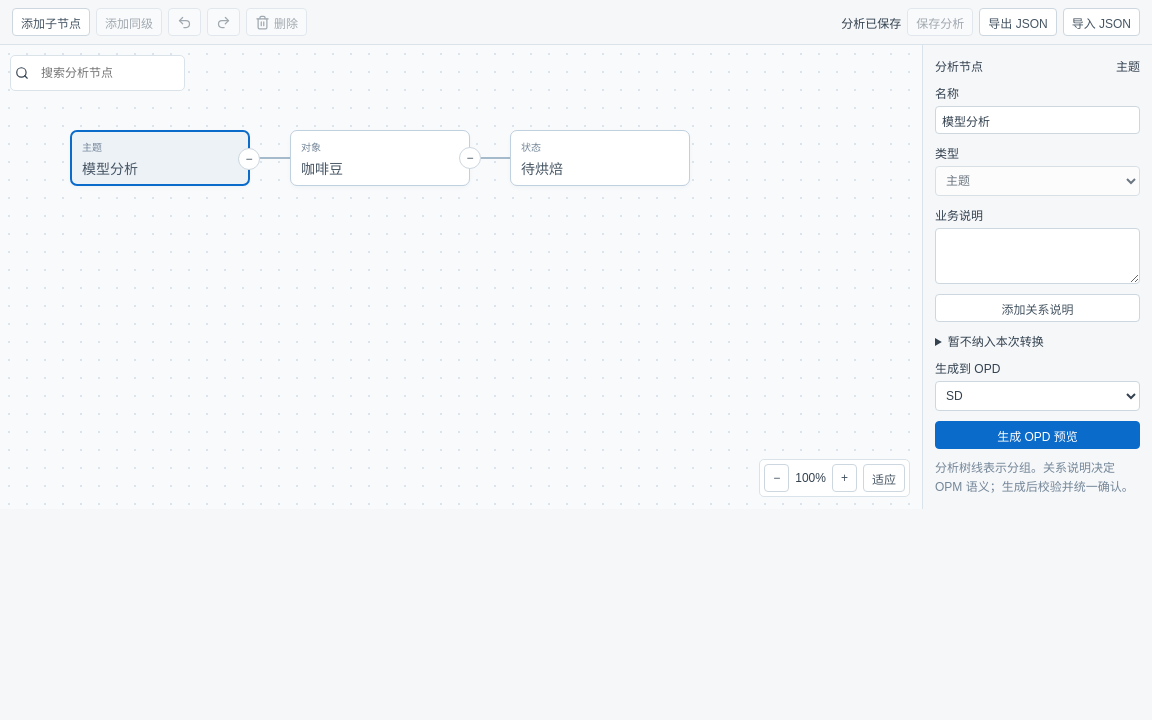
Test case: 拒绝错配响应并保留本地编辑，不把错误修订显示为保存成功
Replace the text in the field with test id "mindmap-node-label" with "本地分析" at [1038, 120], box [935, 106, 1140, 134]
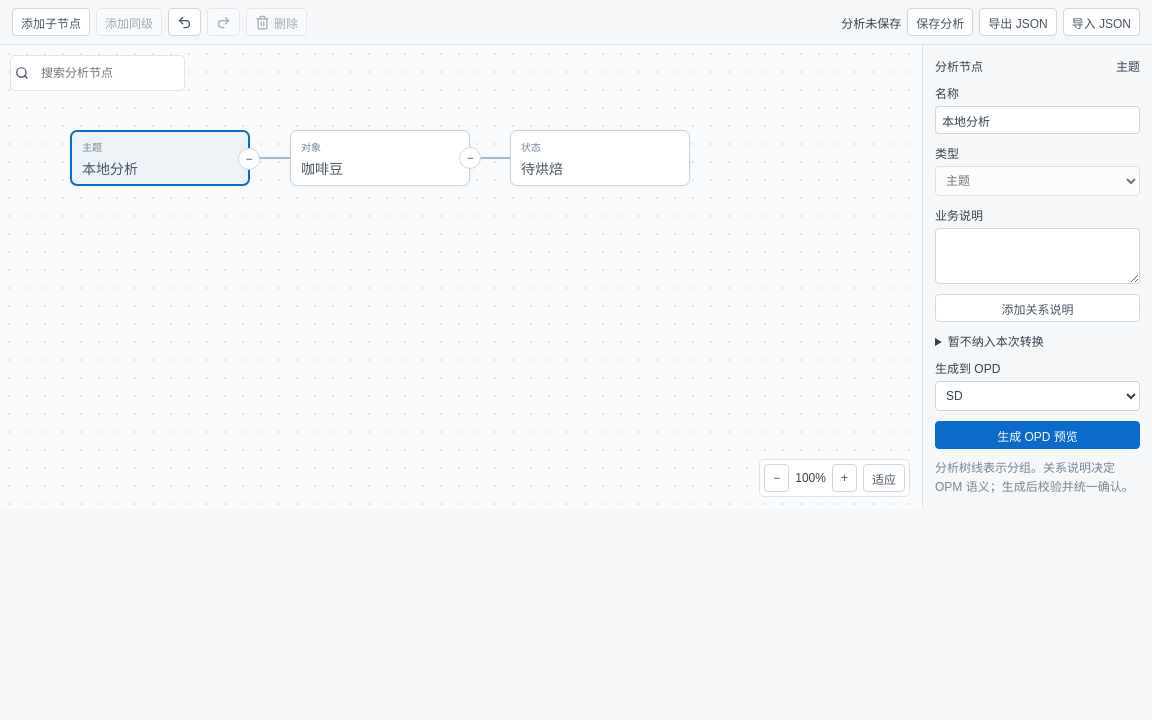
Click the button with test id "mindmap-save" at [940, 22], box [907, 8, 973, 36]
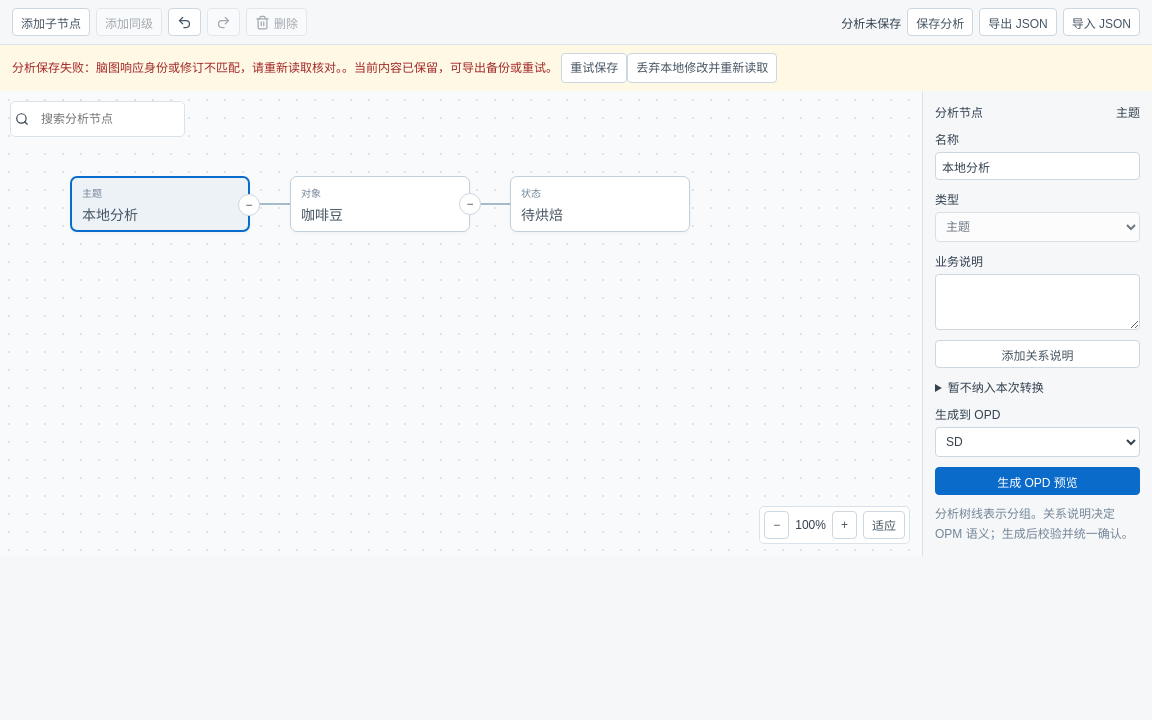
Expected: the message with test id "mindmap-save-state" reads "分析未保存", [841, 16, 901, 30]
Expected: the message "分析保存失败：脑图响应身份或修订不匹配，请重新读取核对。。当前内容已保留，可导出备份或重试。 重试保存 丢弃本地修改并重新读取" is shown, [0, 45, 1151, 91]
